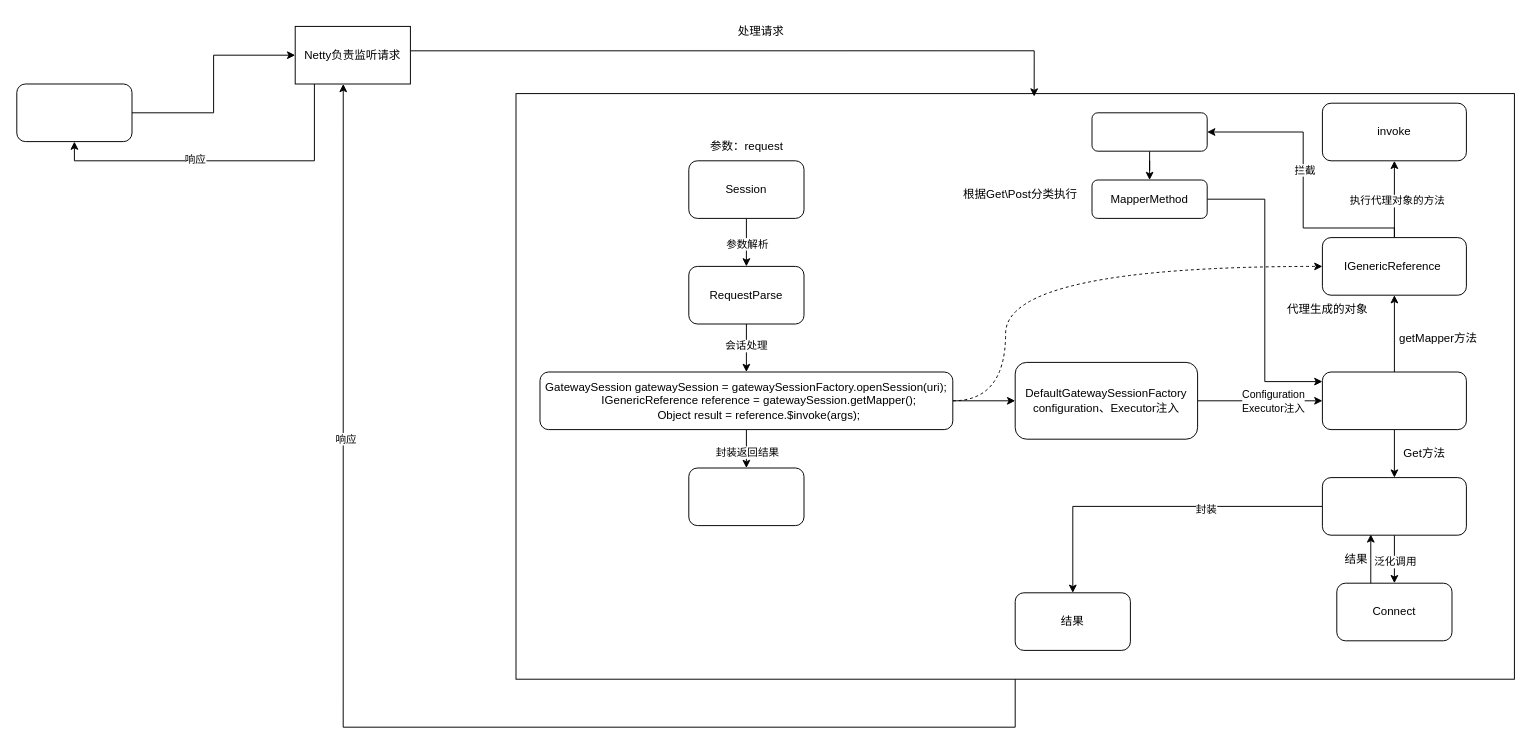
The diagram is 1531 pixels wide and 752 high, and some of its shapes have lost their labels. The shapes that lost their labels are listed below. From the top down, each one's centre as x and y in pixels, then its label:
(x=74, y=112): Http请求
(x=1149, y=131): MapperProxy
(x=1393, y=400): DefaultGatewaySession
(x=746, y=496): ResponseParse
(x=1393, y=506): Executor
